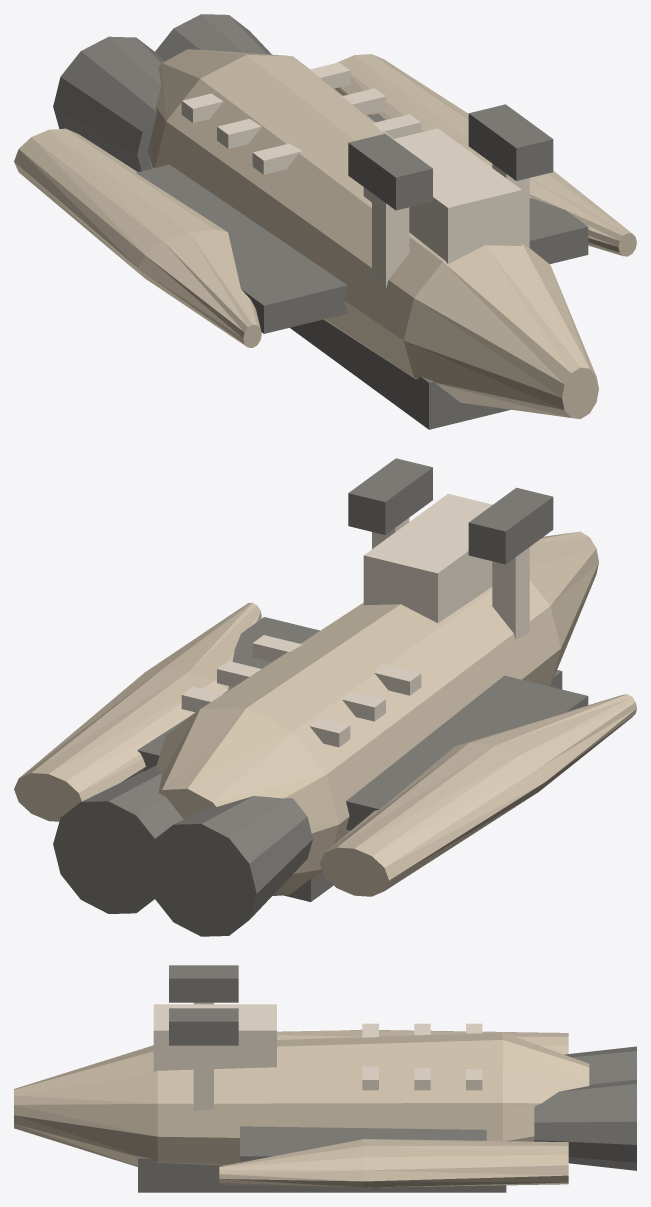
The picture shows the model from 3 angles, top to bottom: view 1: azimuth 30°, elevation 25°; view 2: azimuth 150°, elevation 25°; view 3: azimuth 270°, elevation 25°; orthographic projection. The views are drawn at different scales.
Size of the model in its own units: 3.52 by 2.08 by 6.37.
